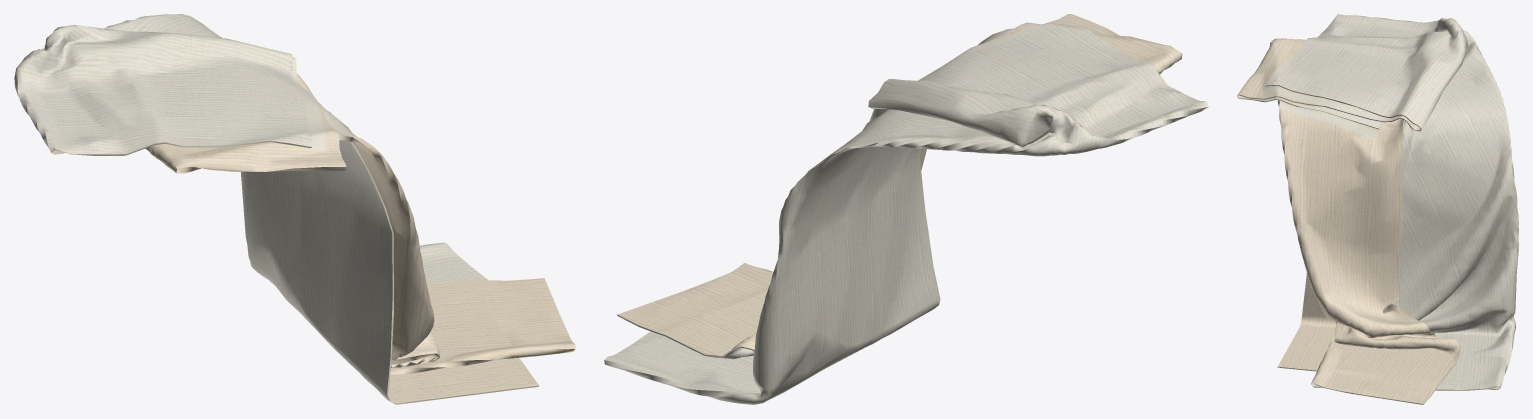
File: vallkrassing_pled_20570928.glb
3 views of the same model, side by side, from view 1: azimuth 30°, elevation 25°; view 2: azimuth 150°, elevation 25°; view 3: azimuth 270°, elevation 25° (orthographic). The views are drawn at different scales.
Parts seen in each view (by area): view 1: vallkrassing_pled_20570928; view 2: vallkrassing_pled_20570928; view 3: vallkrassing_pled_20570928.
Part boxes in pixels (x1,y1,x2,y2): vallkrassing_pled_20570928: (14, 14, 575, 404); vallkrassing_pled_20570928: (604, 14, 1208, 404); vallkrassing_pled_20570928: (1237, 14, 1518, 404).
Bounding box in the file's own units: 1.03 × 0.614 × 0.6696.
Materials: 1 (1 with a texture image).
